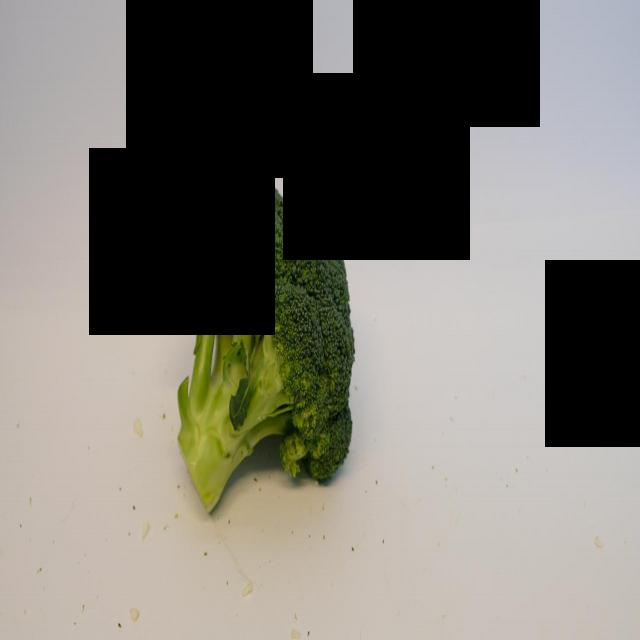broccoli: (165, 172, 357, 514)
